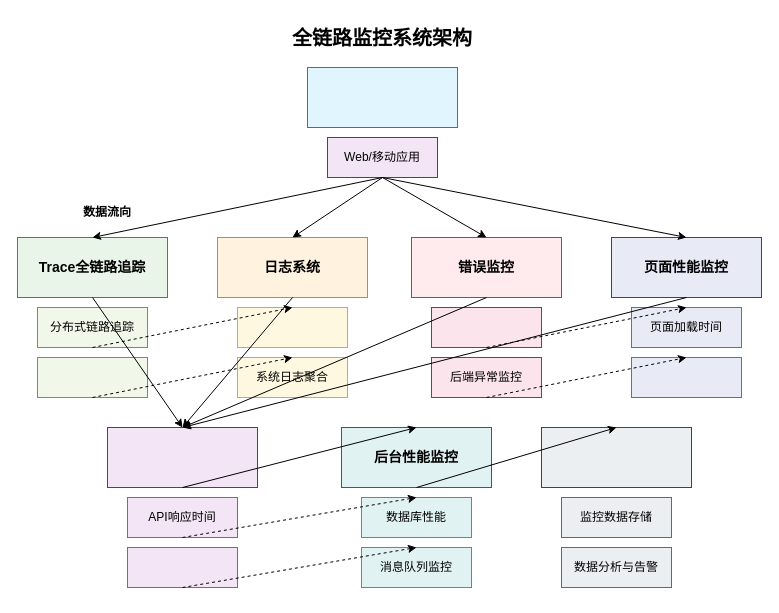
Some shapes in this 779 by 613 pixel diagram are drawn without their labels. Here are the shapes that lost their labels. From the top down, the box of each, then its label:
(306, 66, 458, 128): 用户端
(236, 306, 348, 348): 应用日志收集
(430, 306, 542, 348): 前端错误捕获
(36, 356, 148, 398): 请求链路可视化
(630, 356, 742, 398): 资源加载监控
(106, 426, 258, 488): 服务性能监控
(540, 426, 692, 488): 数据存储与分析
(126, 546, 238, 588): 服务可用性
